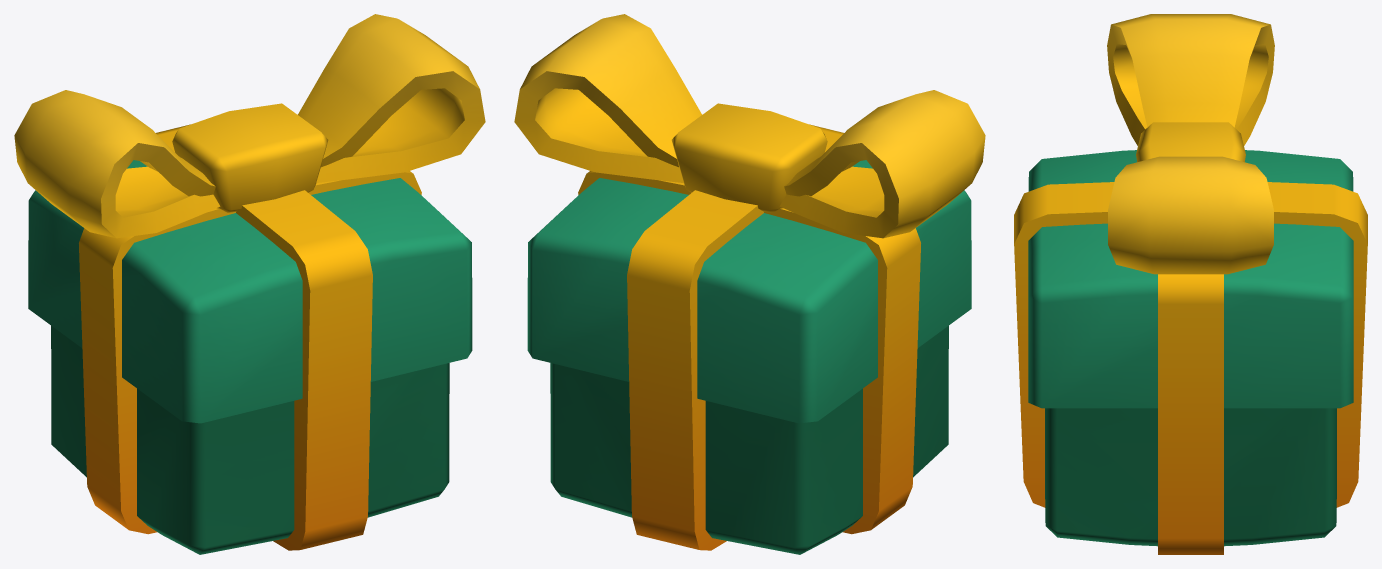
Rendered from Present_002.fbx.
3 renders of one model, left to right at view 1: azimuth 30°, elevation 25°; view 2: azimuth 150°, elevation 25°; view 3: azimuth 270°, elevation 25°, orthographic. The views are drawn at different scales.
Visible parts, largest first — view 1: Present_002; view 2: Present_002; view 3: Present_002.
Boxes of the visible parts, left/top/right/bottom form: Present_002: left=14, top=14, right=485, bottom=554; Present_002: left=514, top=14, right=985, bottom=554; Present_002: left=1014, top=14, right=1367, bottom=554.
Bounding box in the file's own units: 1.53 × 1.54 × 1.19.
